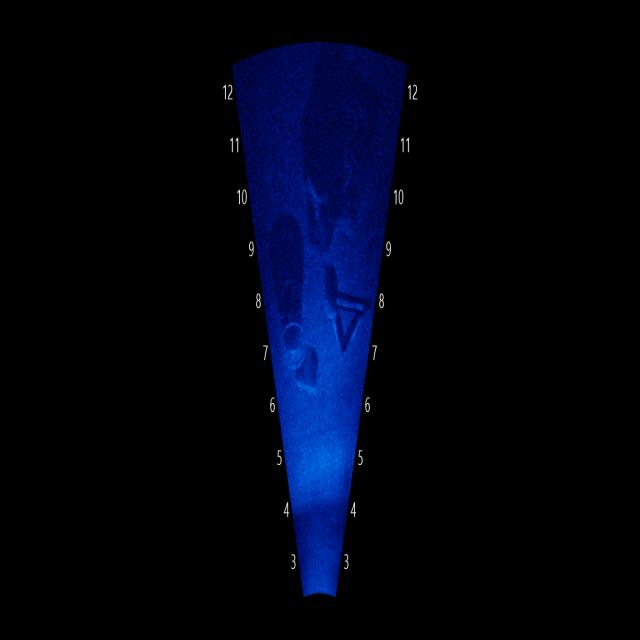circle: (273, 296, 309, 381)
triangle: (323, 264, 374, 368)
